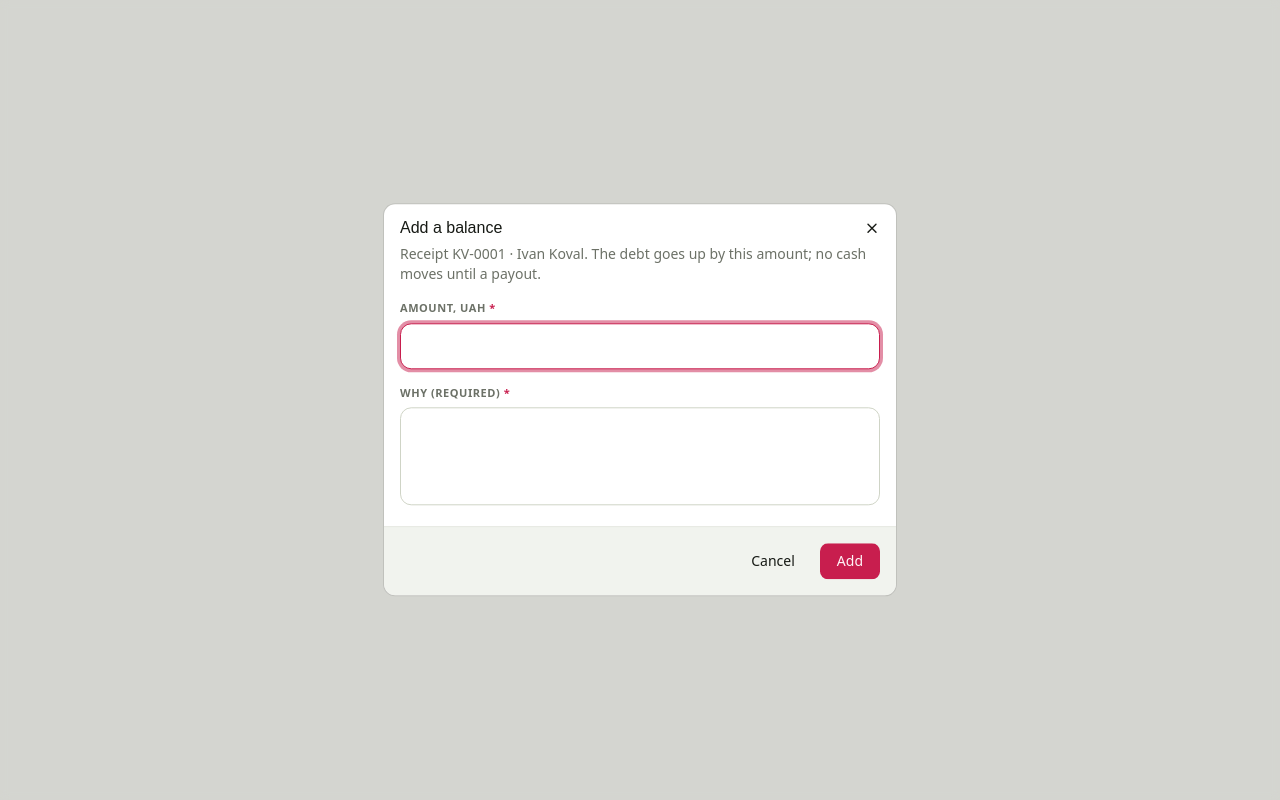
Scenario: TopUpDialog › names SUPPLIER_INACTIVE rather than showing a generic failure
Type "750" into the field labelled "Amount, UAH".
click(640, 346); type("750")  # box [400,323,880,369]
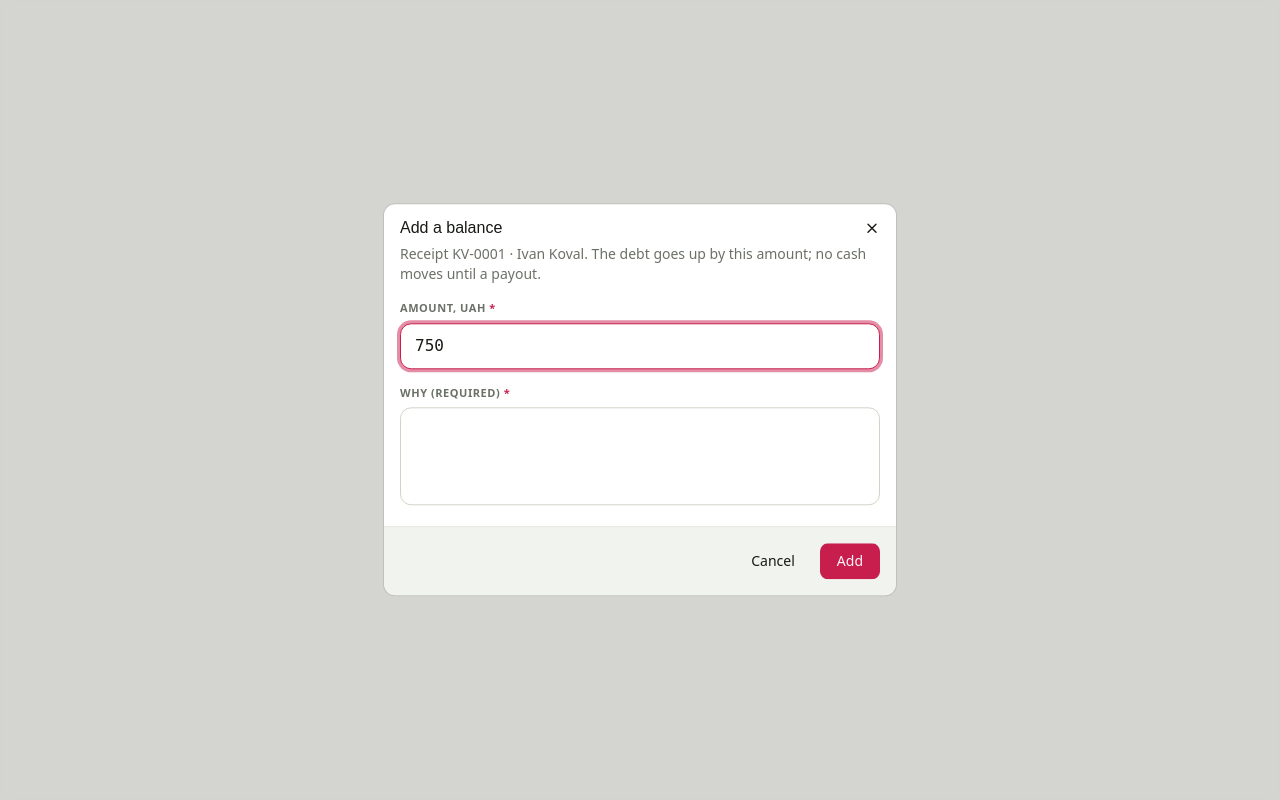
Type "Доплата" into the text box labelled "Why (required)".
click(640, 457); type("Доплата")  # box [400,408,880,506]
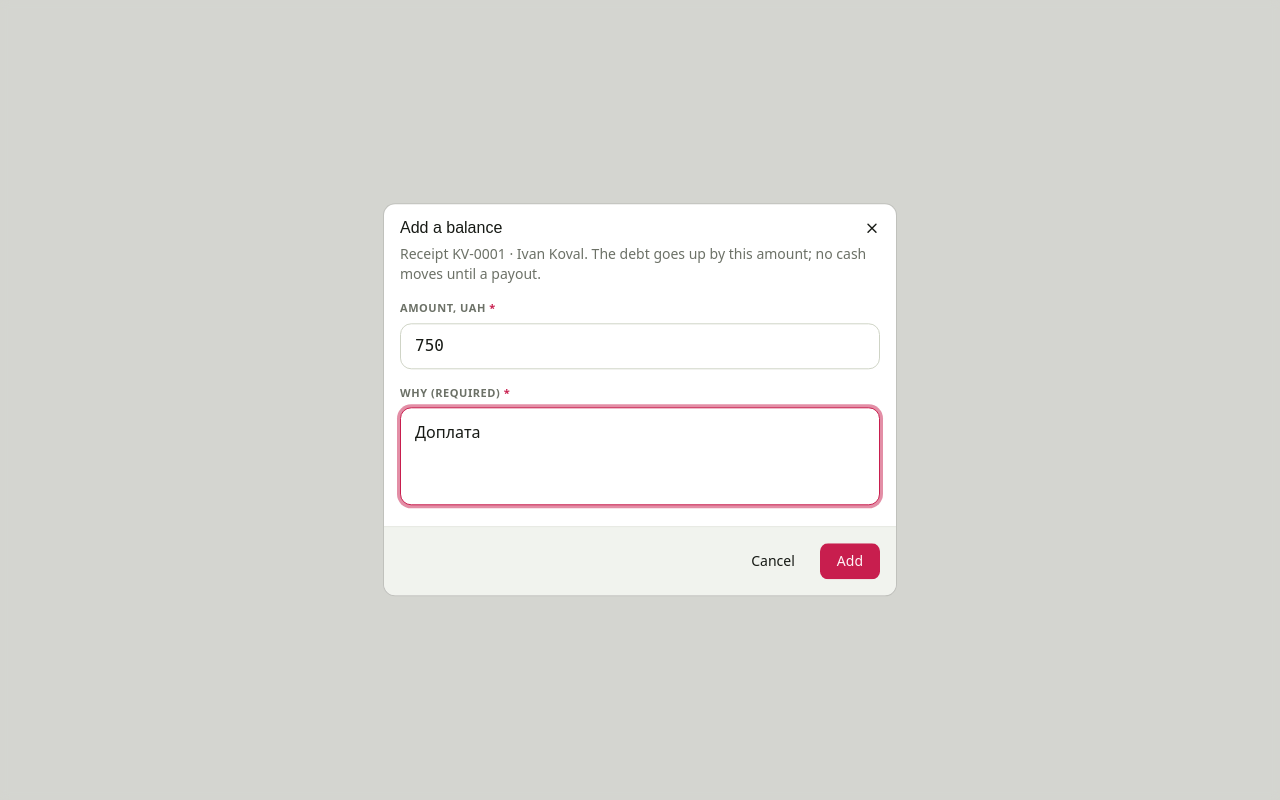
Click the button "Add".
click(850, 562)  # box [820,544,880,580]
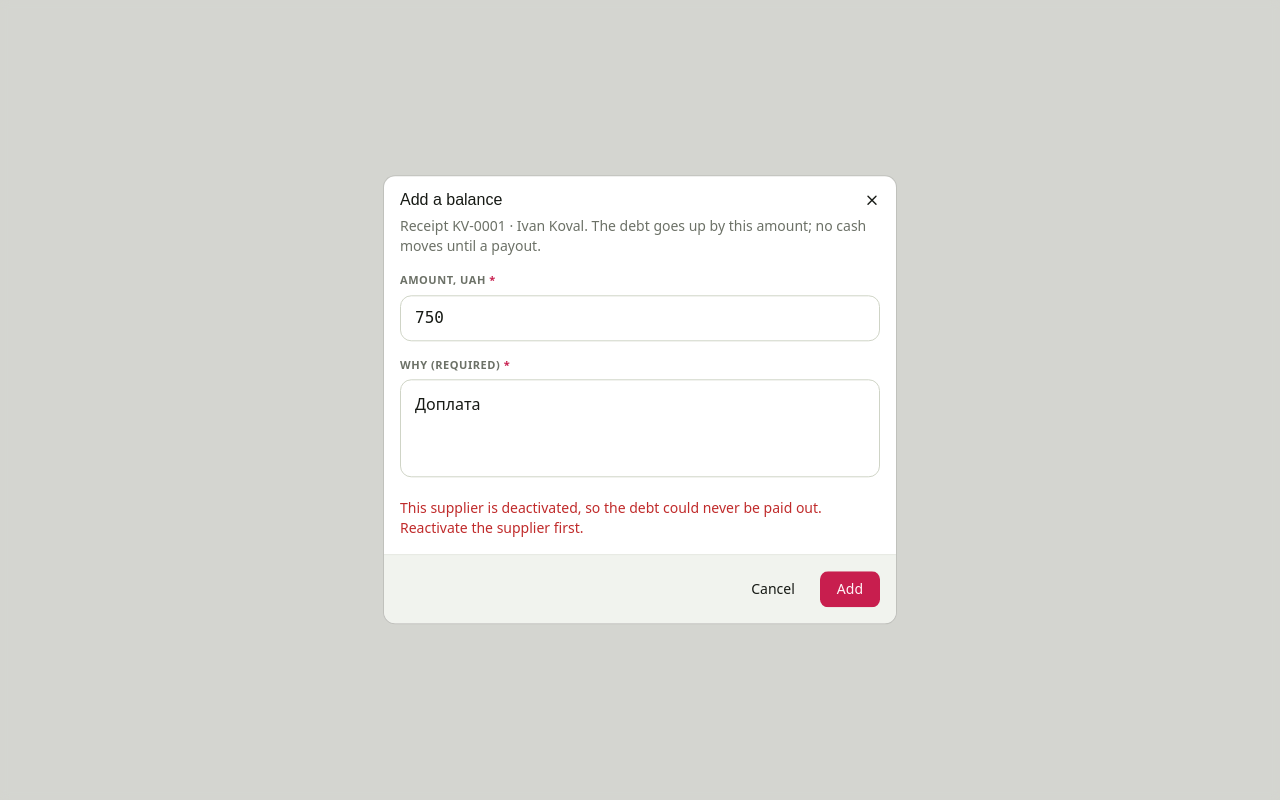
Check: the message shows "deactivated", box [400,499,822,538]
